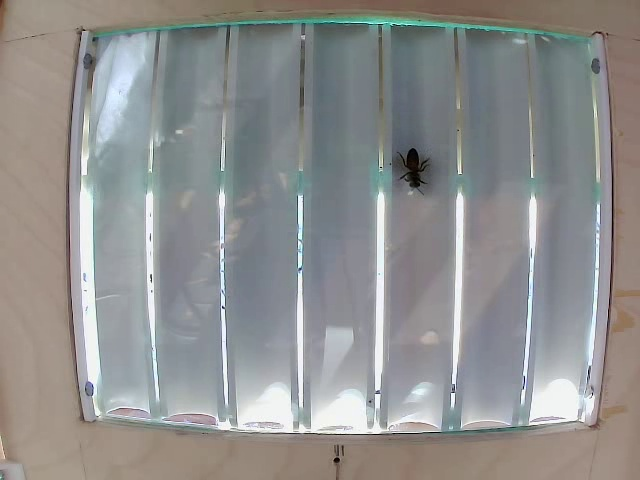bee: (387, 144, 431, 184)
